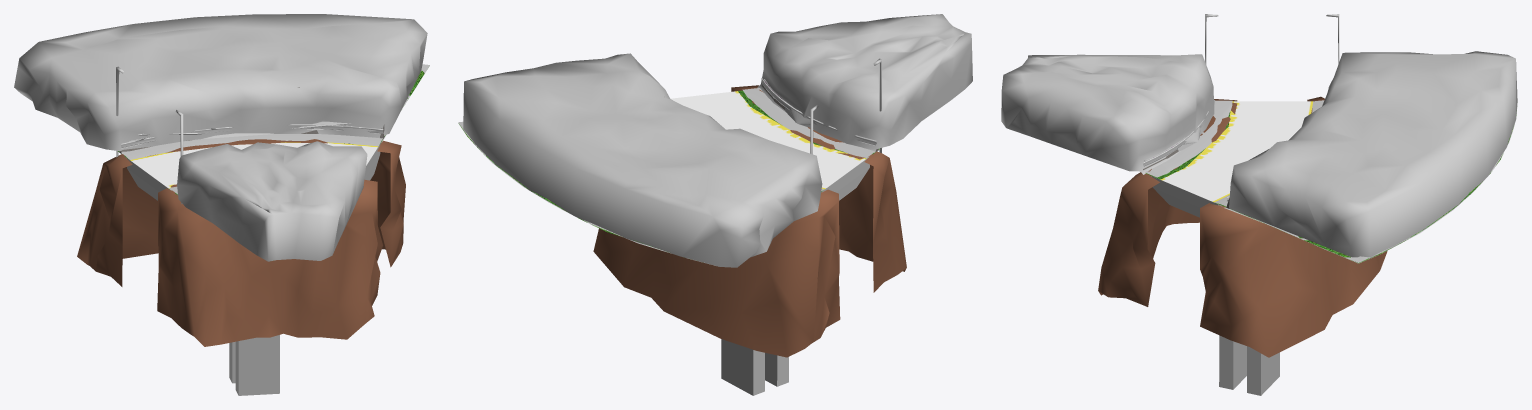
Rendered from RoadRight_LOD2.fbx.
3 views of the same model, side by side, from view 1: azimuth 30°, elevation 25°; view 2: azimuth 150°, elevation 25°; view 3: azimuth 270°, elevation 25° (orthographic). The views are drawn at different scales.
Parts seen in each view (by area): view 1: MountainLeft, CliffRight, MountainRight, CliffLeft, Road, PianoLeft, Road Mask, RailGuardLeft, TreeWallLeft; view 2: MountainLeft, MountainRight, CliffLeft, CliffRight, Road Mask, Road, PianoRight; view 3: MountainLeft, MountainRight, CliffLeft, CliffRight, Road Mask, Road, PianoRight.
Boxes of the visible parts, x1=… form: MountainLeft: x1=14, y1=14, x2=427, y2=153; CliffRight: x1=157, y1=179, x2=382, y2=346; MountainRight: x1=177, y1=141, x2=367, y2=261; CliffLeft: x1=77, y1=139, x2=405, y2=286; Road: x1=127, y1=144, x2=380, y2=395; PianoLeft: x1=122, y1=66, x2=429, y2=159; Road Mask: x1=130, y1=142, x2=378, y2=188; RailGuardLeft: x1=121, y1=124, x2=383, y2=148; TreeWallLeft: x1=138, y1=121, x2=350, y2=138; MountainLeft: x1=463, y1=53, x2=822, y2=267; MountainRight: x1=757, y1=14, x2=972, y2=152; CliffLeft: x1=593, y1=189, x2=840, y2=357; CliffRight: x1=731, y1=85, x2=906, y2=292; Road Mask: x1=670, y1=91, x2=866, y2=189; Road: x1=721, y1=157, x2=869, y2=395; PianoRight: x1=742, y1=88, x2=879, y2=157; MountainLeft: x1=1229, y1=51, x2=1517, y2=258; MountainRight: x1=1001, y1=54, x2=1215, y2=174; CliffLeft: x1=1200, y1=96, x2=1387, y2=357; CliffRight: x1=1098, y1=99, x2=1237, y2=306; Road Mask: x1=1160, y1=101, x2=1313, y2=202; Road: x1=1152, y1=176, x2=1279, y2=395; PianoRight: x1=1145, y1=100, x2=1232, y2=177.
Size of what is drawn, in the model's own units: 886 by 755 by 1105.
